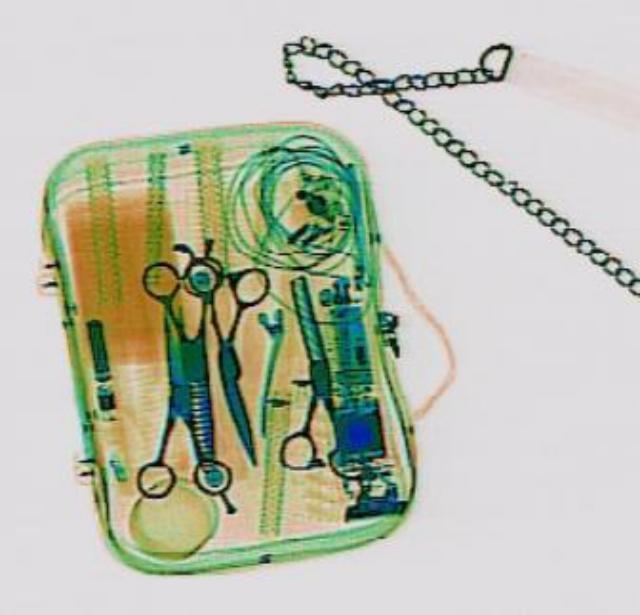Scissors: (174, 243, 302, 468), (134, 247, 258, 474), (248, 267, 369, 482), (120, 300, 228, 495)
